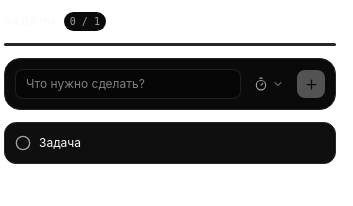
Scenario: tasks view › marks a task done and moves it under the completed heading
Click the button named "Отметить «Задача» выполненной" at coordinates (23, 143), box x1=15 y1=135 x2=31 y2=151
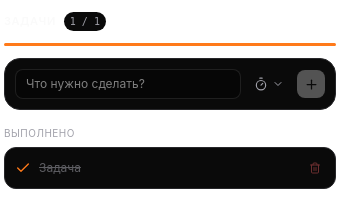
Check: the text "1 / 1" is shown, box x1=64 y1=12 x2=106 y2=31
Check: the text "Выполнено" is shown, box x1=4 y1=127 x2=75 y2=139
